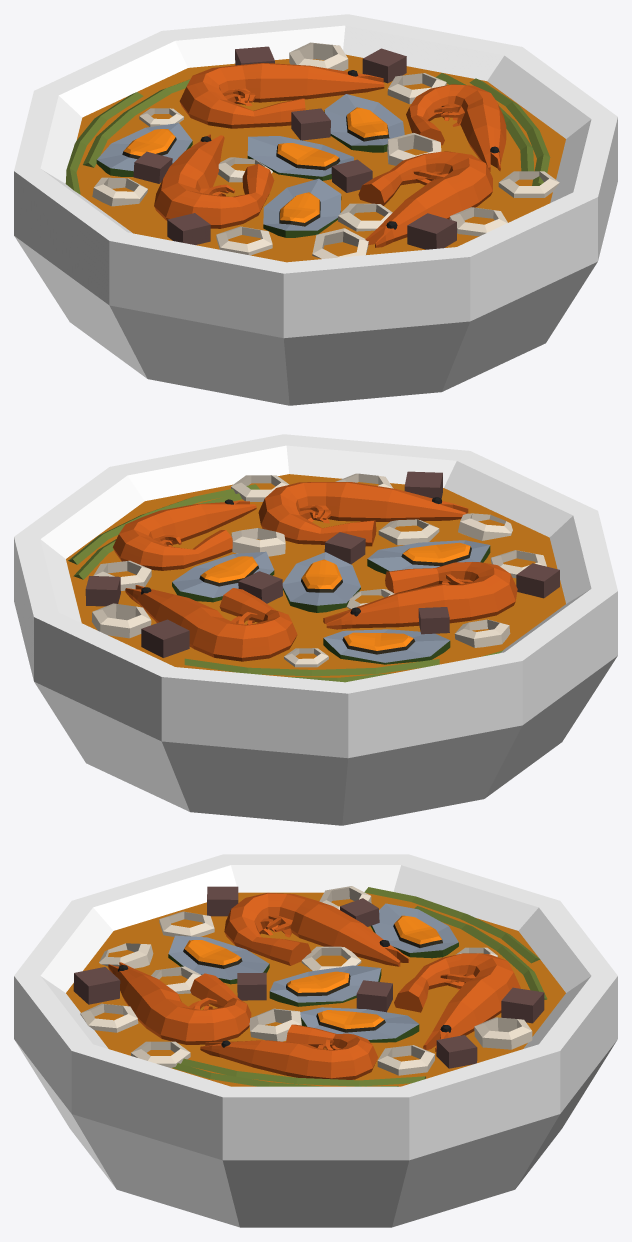
The model's file is Seafood Karekare.fbx.
3 renders of one model, top to bottom at view 1: azimuth 30°, elevation 25°; view 2: azimuth 150°, elevation 25°; view 3: azimuth 270°, elevation 25°, orthographic. The views are drawn at different scales.
Parts seen in each view (by area): view 1: Seafood KareKare; view 2: Seafood KareKare; view 3: Seafood KareKare.
Boxes of the visible parts, x1,y1,x2,y2 form: Seafood KareKare: (14, 14, 617, 405); Seafood KareKare: (14, 434, 617, 825); Seafood KareKare: (14, 854, 617, 1227).
Bounding box in the file's own units: 105 × 110 × 40.47.
